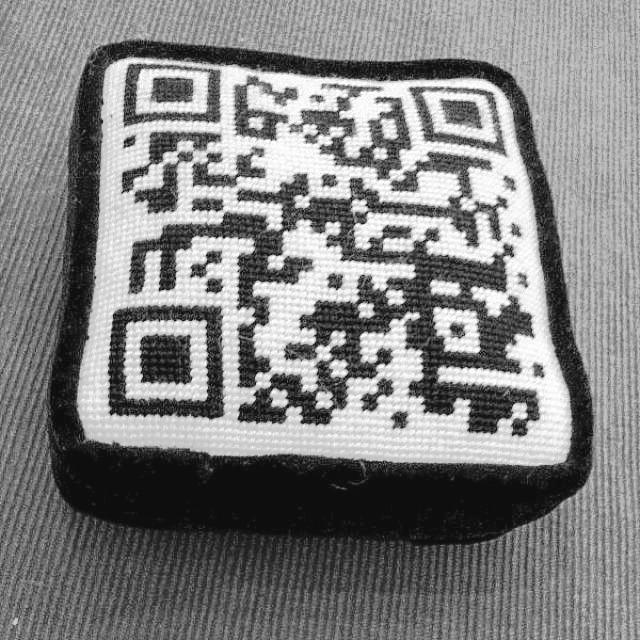qr_code: (109, 64, 548, 434)
